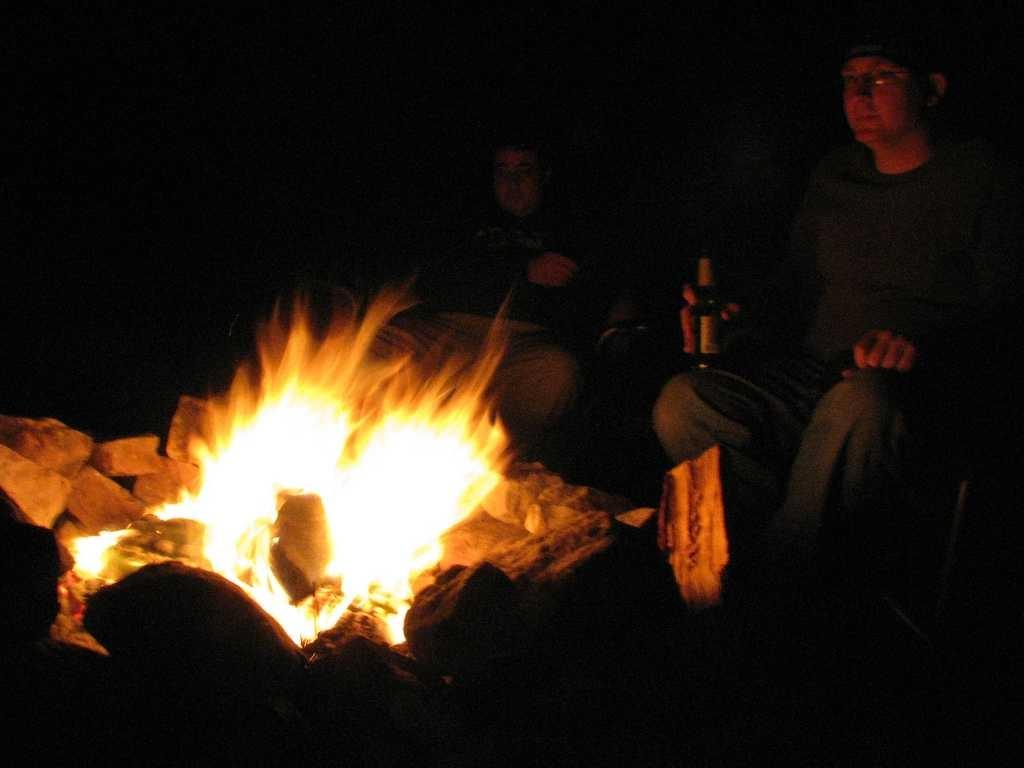fire: (344, 426, 490, 570), (210, 420, 322, 486)
